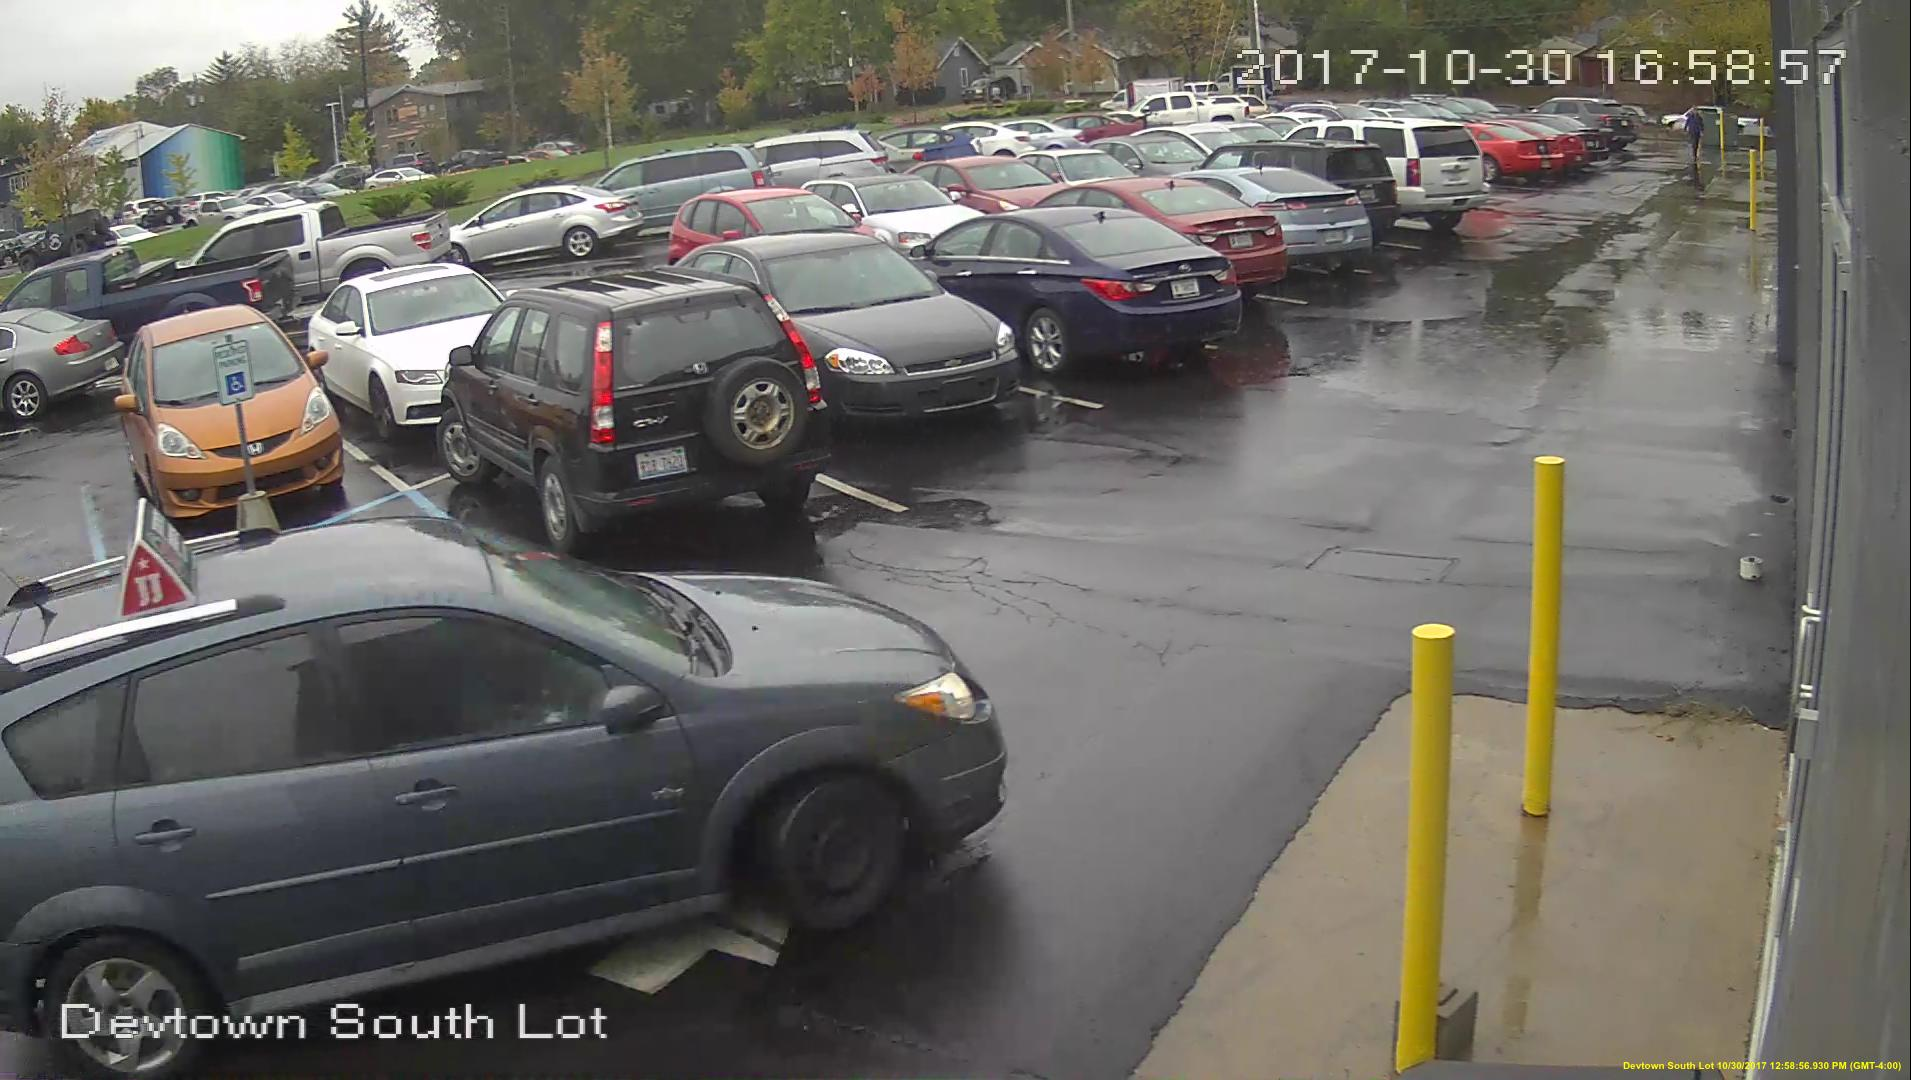jimmy_johns: (115, 499, 199, 625)
